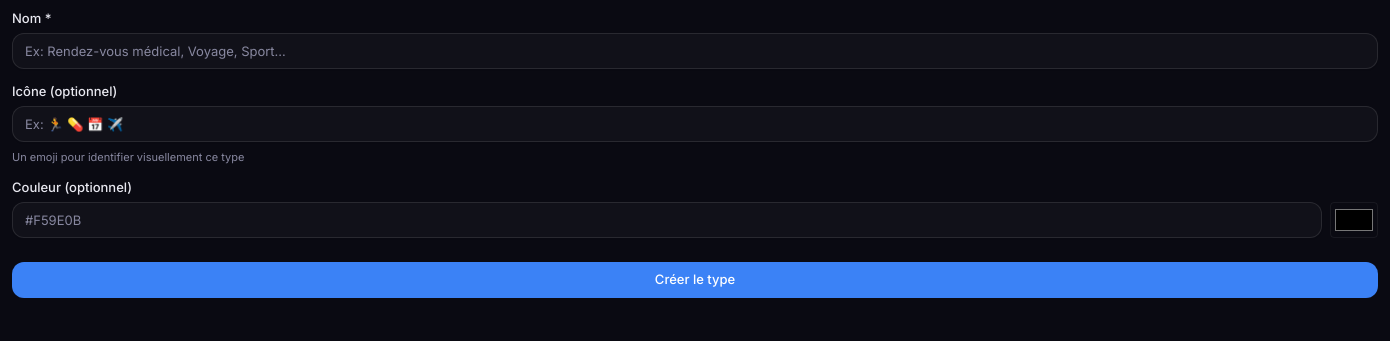
Test case: EventTypeForm — création › affiche une erreur si la couleur n'est pas au format hex valide
Type "Test" into the field labelled "Nom *" at (695, 51), box [12,33,1378,69]
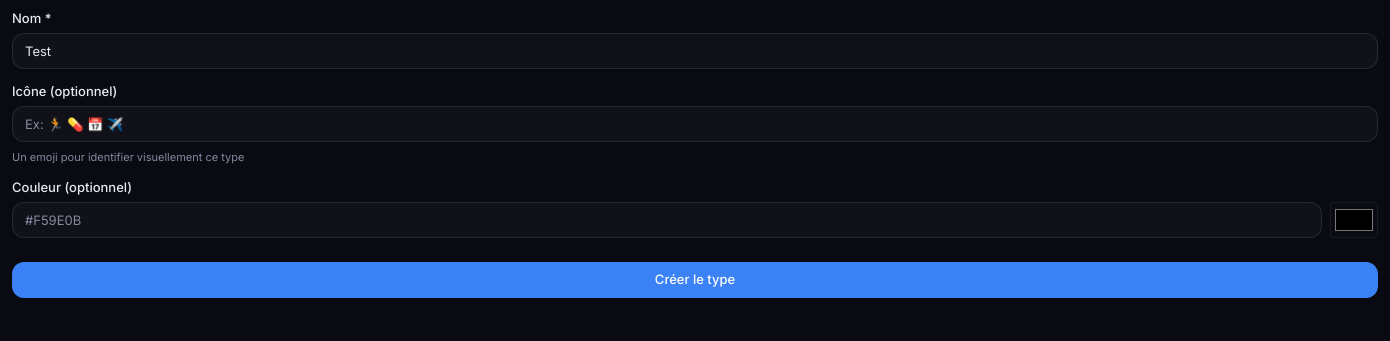
Type "rouge" into the field labelled "Couleur (optionnel)" at (667, 220), box [12,202,1322,238]
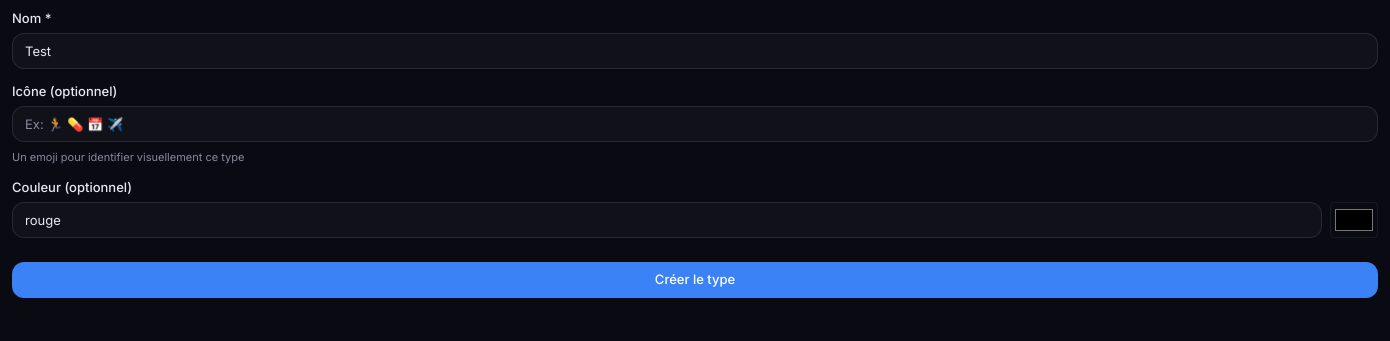
Submit the form from the button "Créer le type", box [12,262,1378,298]
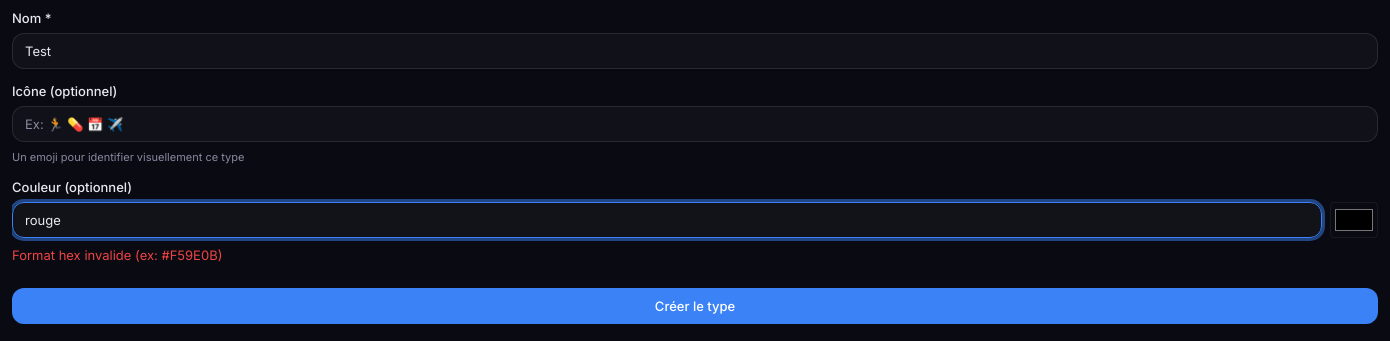
Expected: the text "Format hex invalide (ex: #F59E0B)" is shown, [12,247,222,263]
